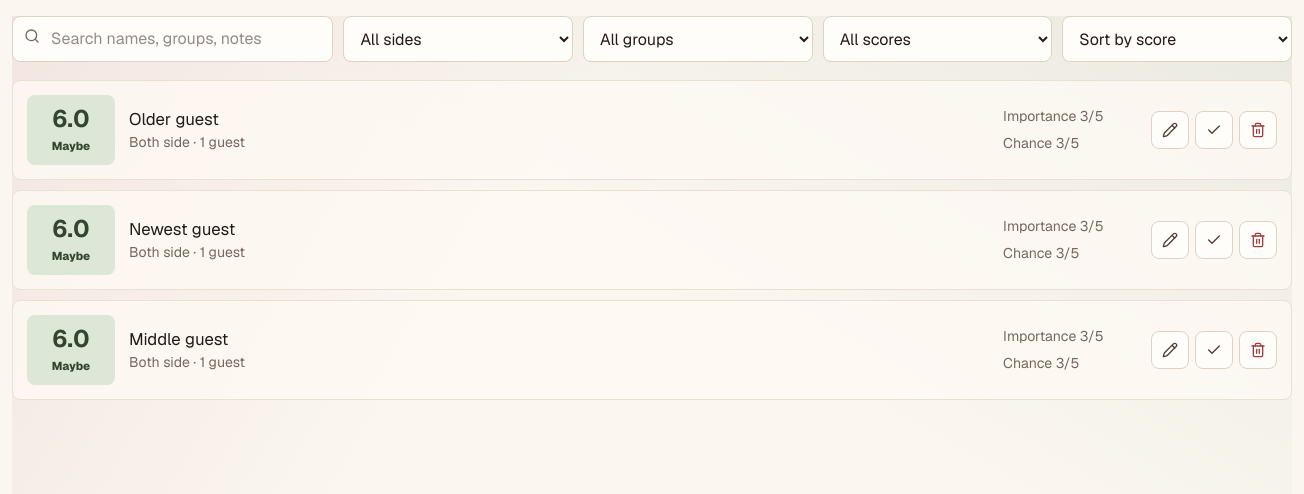
Test: InviteTable › sorts invites by latest added first
This screenshot has width=1304, height=494.
Select "Sort by latest added" in the 4th dropdown showing "Sort by score": (1177, 39) [1062,16,1292,62]
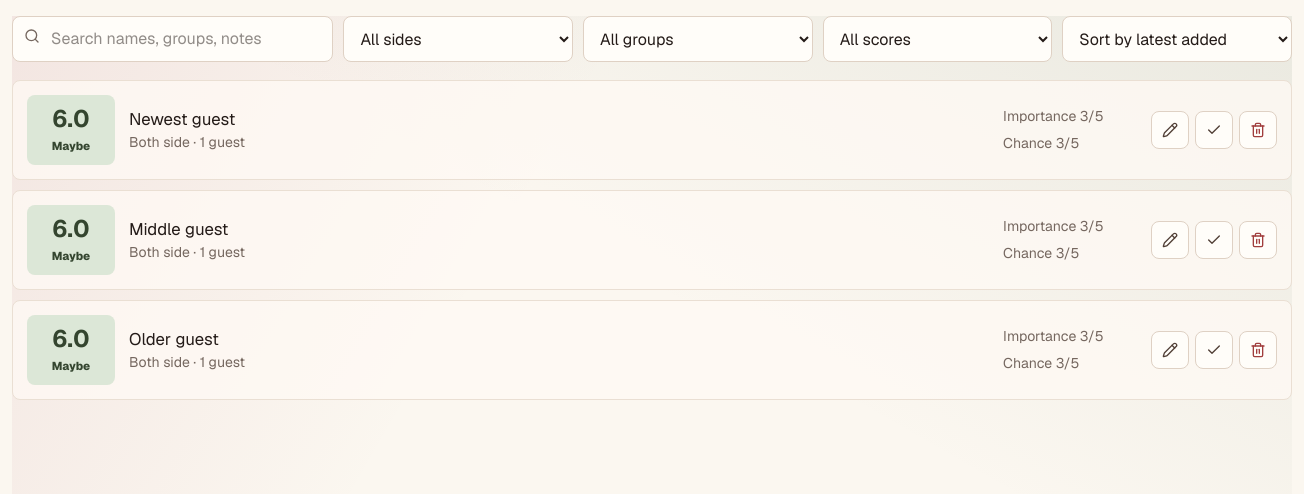
expect the headings read "Newest guest", "Middle guest", "Older guest", in this order: met, box [129,108,235,130]; [129,218,228,240]; [129,328,219,350]
